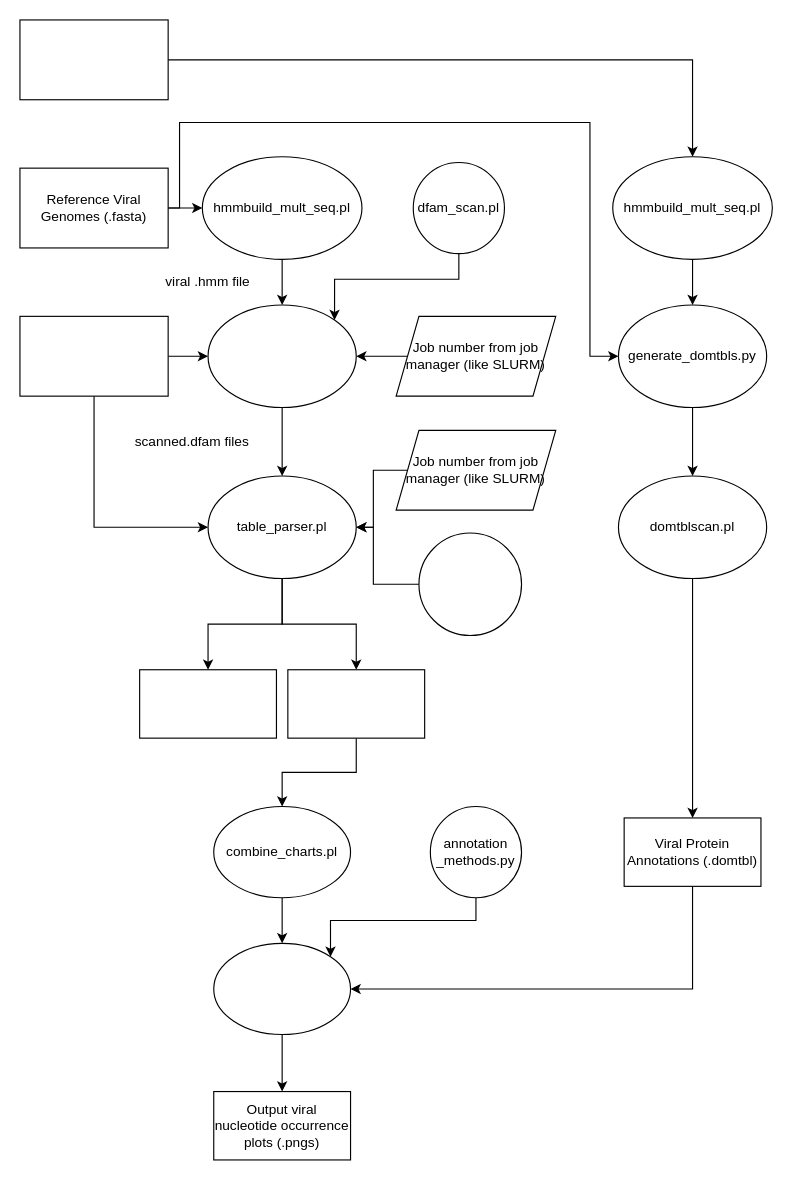
The diagram is 792 pixels wide and 1180 high, and some of its shapes have lost their labels. The centre of each missing label's shape, as x and y in pixels:
"Bacterial Genomes (.fasta)" belongs at point 93,355.
"dfam_tableizer.pl" belongs at point 281,356.
"nucleotide index occurrence counts (.txt)" belongs at point 356,703.
"Reference Viral Genes (.fasta)" belongs at point 93,59.
"Viral Insertion .tsvs" belongs at point 207,703.
"ViralSeq.pm" belongs at point 470,584.
"visualize_nucleotide _counts.py" belongs at point 282,988.
